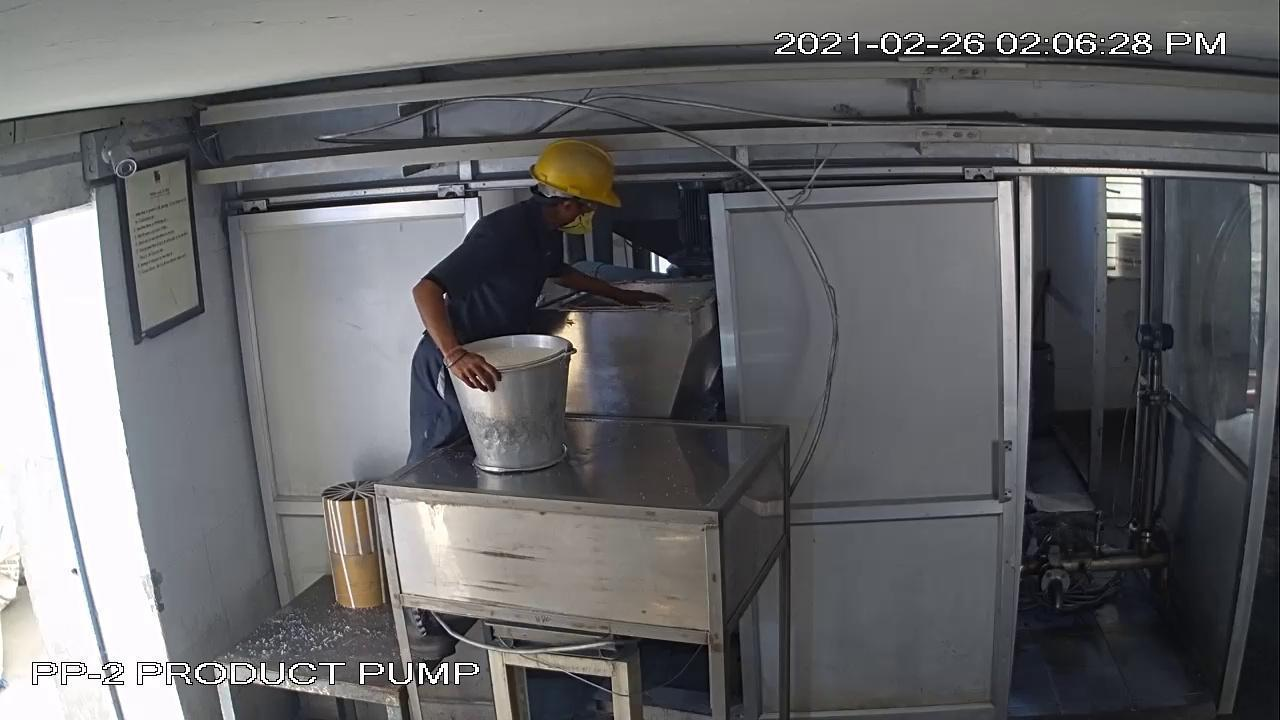helmet: (529, 137, 625, 212)
